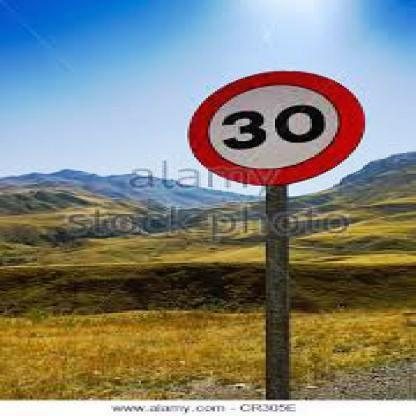Speed Limit -30-: (184, 65, 371, 189)
